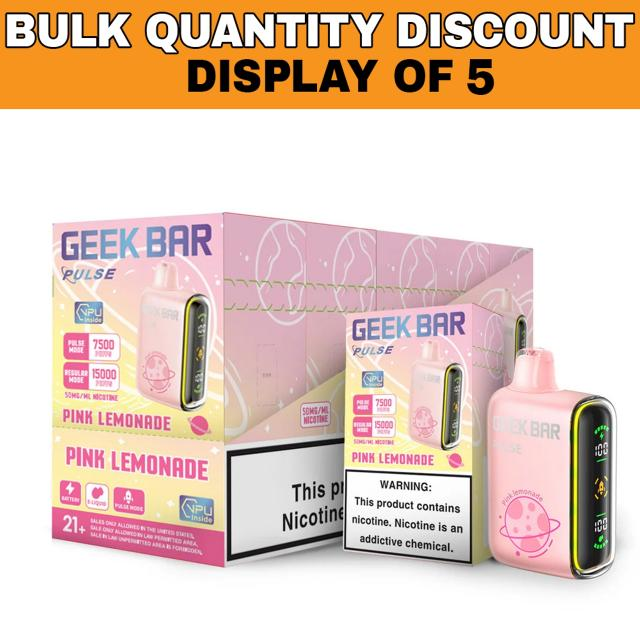Vape-images: (484, 347, 621, 581)
